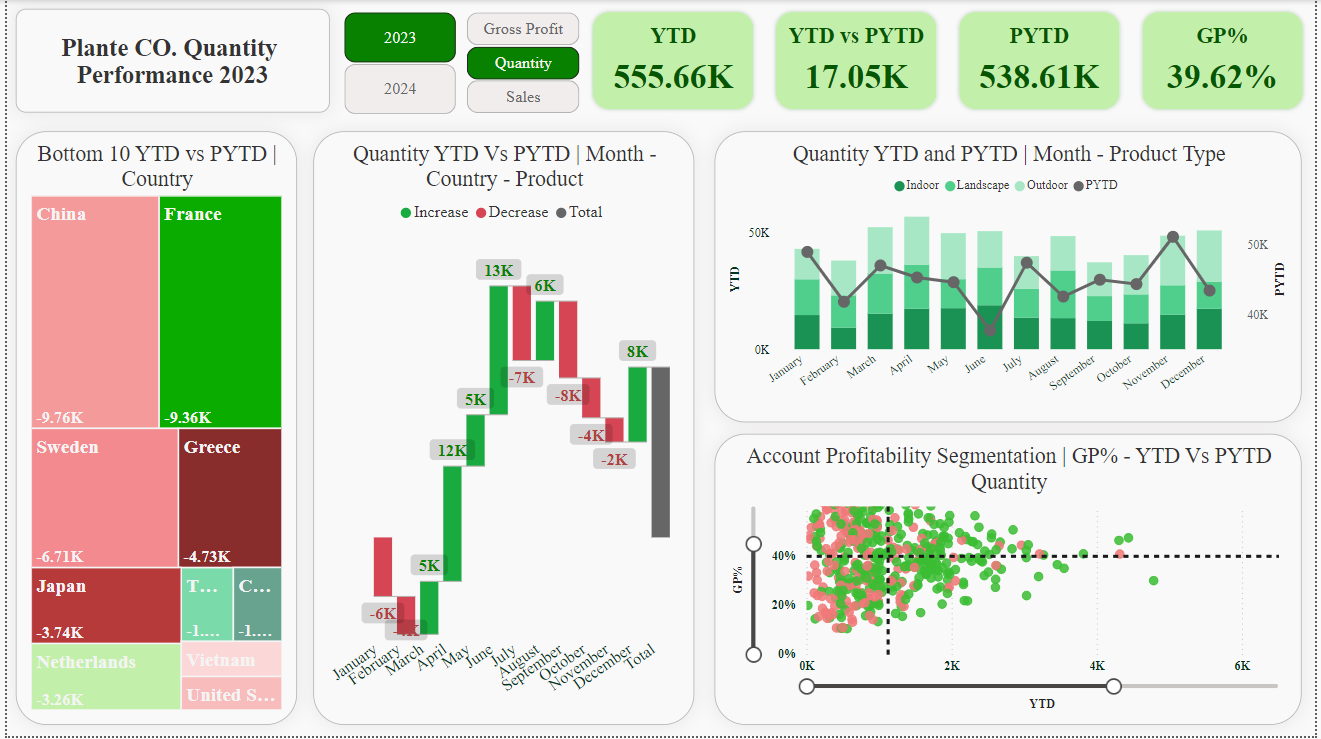

This screenshot's page, from the dashboard's own definition file:
{"tool":"powerbi","page":{"name":"Page 1","canvas":[1280,720],"ordinal":0},"visuals":[{"type":"cardVisual","fields":{"Data":["_Measures.S_YTD","_Measures.YTD vs PYTD","_Measures.S_PYTD","_Measures.GP%"]},"box":[561.3,0,718,119.8],"z":0},{"type":"advancedSlicerVisual","fields":{"Values":["SLC_Values.Values"]},"box":[445,7,120,110.1],"z":1000},{"type":"advancedSlicerVisual","fields":{"Values":["Dim_Date.Date.Variation.Date Hierarchy.Year"]},"box":[325,7,119.8,110.1],"z":2000},{"type":"treemap","title":"Bottom 10 YTD vs PYTD | Country","fields":{"Group":["Dim_Account.country"],"Values":["_Measures.YTD vs PYTD"]},"box":[8.6,128.4,275.1,580.8],"z":3000},{"type":"waterfallChart","fields":{"Y":["_Measures.YTD vs PYTD"],"Category":["Dim_Date.Date.Variation.Date Hierarchy.Month","Dim_Account.country","Dim_Product.Produt_Type","Dim_Product.Product_Name"]},"box":[299.6,128.4,373,580.8],"z":4000},{"type":"lineStackedColumnComboChart","fields":{"Category":["Dim_Date.Date.Variation.Date Hierarchy.Month"],"Y":["_Measures.S_YTD"],"Y2":["_Measures.S_PYTD"],"Series":["Dim_Product.Produt_Type"]},"box":[692.1,128.4,574.7,285],"z":5000},{"type":"scatterChart","fields":{"Y":["_Measures.GP%"],"X":["_Measures.S_YTD"],"Category":["Dim_Account.Account"]},"box":[692.1,424.3,574.7,284.9],"z":6000},{"type":"card","fields":{"Values":["_Measures._ReportTitle"]},"box":[8.6,8,306.9,101.5],"z":7000}]}

Visuals, with their boxes in screenshot pixels (x1, y1, x2, y2), scaled from the page's 1280x720 canvas onto the 1321x739 screenshot:
cardVisual - _Measures.S_YTD x _Measures.YTD vs PYTD: [x1=579, y1=0, x2=1320, y2=123]
advancedSlicerVisual - SLC_Values.Values: [x1=459, y1=7, x2=583, y2=120]
advancedSlicerVisual - Dim_Date.Date.Variation.Date Hierarchy.Year: [x1=335, y1=7, x2=459, y2=120]
"Bottom 10 YTD vs PYTD | Country" treemap: [x1=9, y1=132, x2=293, y2=728]
waterfallChart - _Measures.YTD vs PYTD x Dim_Date.Date.Variation.Date Hierarchy.Month: [x1=309, y1=132, x2=694, y2=728]
lineStackedColumnComboChart - Dim_Date.Date.Variation.Date Hierarchy.Month x _Measures.S_YTD: [x1=714, y1=132, x2=1307, y2=424]
scatterChart - _Measures.GP% x _Measures.S_YTD: [x1=714, y1=435, x2=1307, y2=728]
card - _Measures._ReportTitle: [x1=9, y1=8, x2=326, y2=112]
